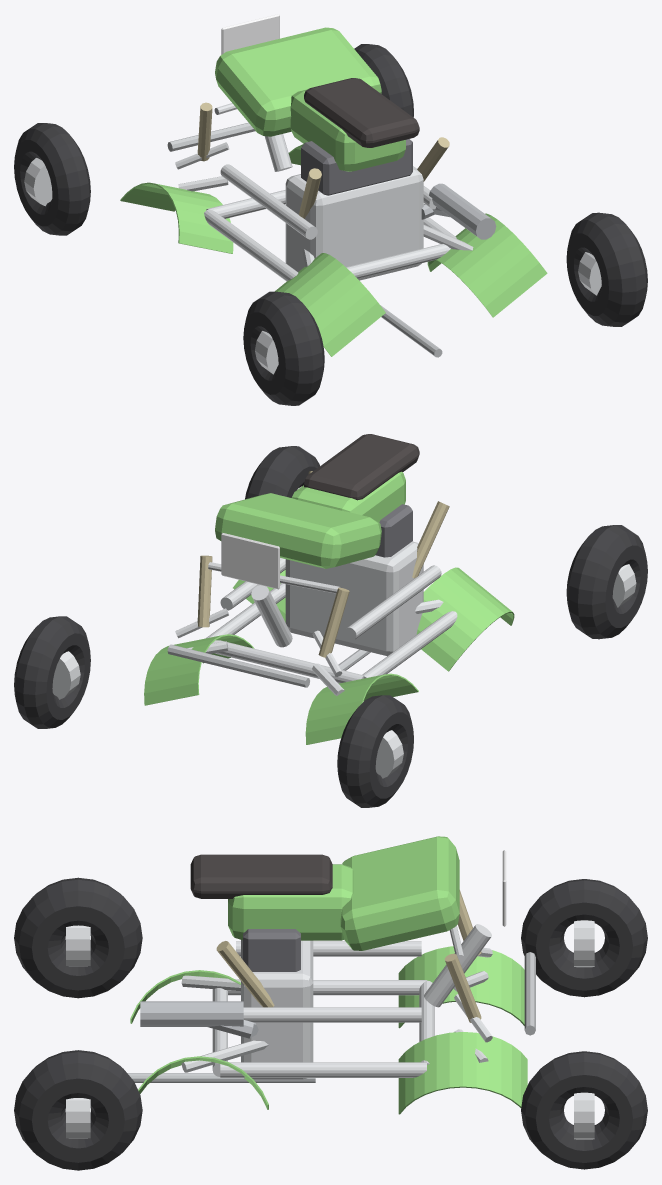
The model's file is atv90_lod1.glb.
3 renders of one model, top to bottom at view 1: azimuth 30°, elevation 25°; view 2: azimuth 150°, elevation 25°; view 3: azimuth 270°, elevation 25°, orthographic. The views are drawn at different scales.
Parts seen in each view (by area): view 1: b_engine, b_hood, b_wheel_rl_tire, b_wheel_rr_tire, b_wheel_fl_tire, b_rfender_1, b_rfender_-1, b_seat, b_tank, b_ffender_-1, b_engine_head, b_wheel_fr_tire (+15 smaller); view 2: b_engine, b_hood, b_wheel_rl_tire, b_wheel_fr_tire, b_wheel_fl_tire, b_rfender_-1, b_seat, b_ffender_-1, b_ffender_1, b_plate, b_wheel_rr_tire, b_tank (+15 smaller); view 3: b_wheel_rr_tire, b_wheel_rl_tire, b_hood, b_wheel_fr_tire, b_wheel_fl_tire, b_ffender_1, b_seat, b_tank, b_engine, b_ffender_-1, b_rail_1, b_rail2_1 (+19 smaller).
Part boxes in pixels (x1=…): b_engine: x1=285, y1=166, x2=423, y2=280; b_hood: x1=215, y1=27, x2=381, y2=136; b_wheel_rl_tire: x1=243, y1=291, x2=324, y2=405; b_wheel_rr_tire: x1=566, y1=212, x2=647, y2=326; b_wheel_fl_tire: x1=14, y1=123, x2=90, y2=235; b_rfender_1: x1=427, y1=213, x2=547, y2=317; b_rfender_-1: x1=275, y1=253, x2=385, y2=356; b_seat: x1=304, y1=78, x2=419, y2=147; b_tank: x1=290, y1=89, x2=405, y2=171; b_ffender_-1: x1=120, y1=182, x2=233, y2=253; b_engine_head: x1=301, y1=139, x2=412, y2=195; b_wheel_fr_tire: x1=354, y1=44, x2=413, y2=117; b_engine: x1=285, y1=541, x2=423, y2=656; b_hood: x1=215, y1=493, x2=381, y2=568; b_wheel_rl_tire: x1=566, y1=525, x2=647, y2=639; b_wheel_fr_tire: x1=14, y1=616, x2=90, y2=728; b_wheel_fl_tire: x1=337, y1=695, x2=413, y2=807; b_rfender_-1: x1=416, y1=567, x2=514, y2=671; b_seat: x1=304, y1=434, x2=419, y2=500; b_ffender_-1: x1=305, y1=673, x2=418, y2=744; b_ffender_1: x1=144, y1=634, x2=254, y2=705; b_plate: x1=221, y1=533, x2=279, y2=589; b_wheel_rr_tire: x1=245, y1=446, x2=319, y2=499; b_tank: x1=291, y1=471, x2=405, y2=522; b_wheel_rr_tire: x1=14, y1=1050, x2=142, y2=1170; b_wheel_rl_tire: x1=14, y1=877, x2=142, y2=998; b_hood: x1=340, y1=836, x2=459, y2=950; b_wheel_fr_tire: x1=521, y1=1051, x2=647, y2=1169; b_wheel_fl_tire: x1=521, y1=879, x2=647, y2=997; b_ffender_1: x1=398, y1=1032, x2=527, y2=1114; b_seat: x1=190, y1=854, x2=332, y2=898; b_tank: x1=228, y1=864, x2=353, y2=940; b_engine: x1=241, y1=940, x2=313, y2=1079; b_ffender_-1: x1=398, y1=946, x2=524, y2=1028; b_rail_1: x1=220, y1=1062, x2=426, y2=1077; b_rail2_1: x1=243, y1=1007, x2=421, y2=1022.
Bounding box in the file's own units: 1.81 × 0.9368 × 2.46.
